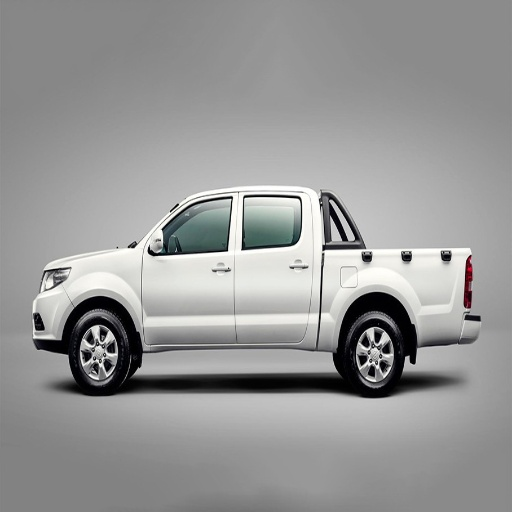back_glass: (236, 193, 320, 339)
front_glass: (142, 195, 237, 343)
tailgate: (324, 244, 468, 345)
trunk: (340, 312, 405, 395), (70, 309, 132, 394)
